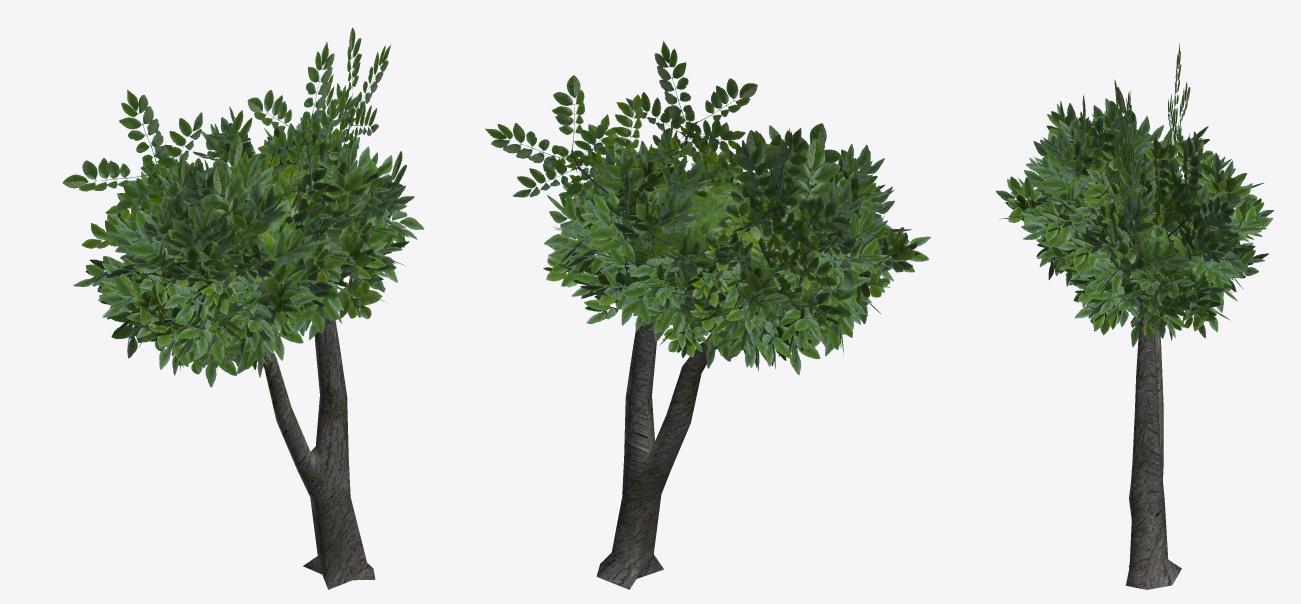
The model's file is tree2LOD.FBX.
3 renders of one model, left to right at view 1: azimuth 30°, elevation 25°; view 2: azimuth 150°, elevation 25°; view 3: azimuth 270°, elevation 25°, orthographic. The views are drawn at different scales.
Visible parts, largest first — view 1: Object232, tree2uv, blob003; view 2: Object232, tree2uv, blob003; view 3: Object232, tree2uv, blob003.
Part boxes in pixels (x1=…): Object232: x1=62, y1=27, x2=424, y2=387; tree2uv: x1=263, y1=318, x2=375, y2=589; blob003: x1=154, y1=163, x2=345, y2=331; Object232: x1=485, y1=41, x2=930, y2=374; tree2uv: x1=596, y1=322, x2=717, y2=589; blob003: x1=608, y1=180, x2=834, y2=343; Object232: x1=996, y1=43, x2=1273, y2=346; tree2uv: x1=1126, y1=304, x2=1181, y2=589; blob003: x1=1075, y1=166, x2=1197, y2=310.
Bounding box in the file's own units: 758 × 558 × 1006.
